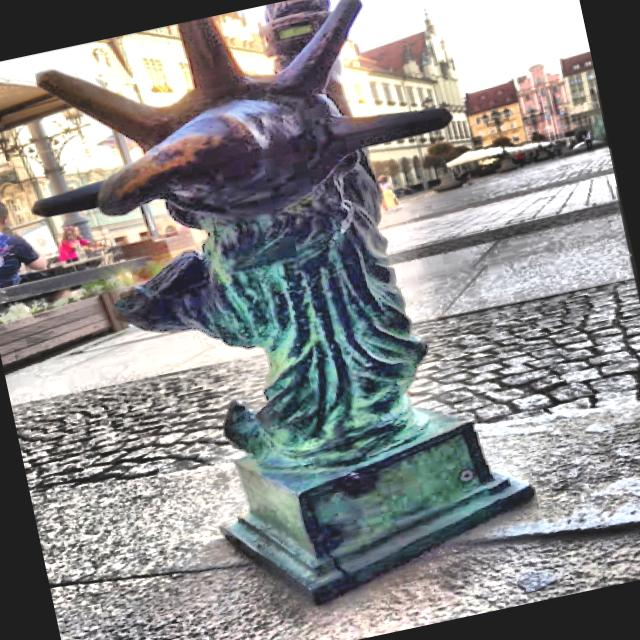LadyWolnosc: (34, 0, 534, 600)
